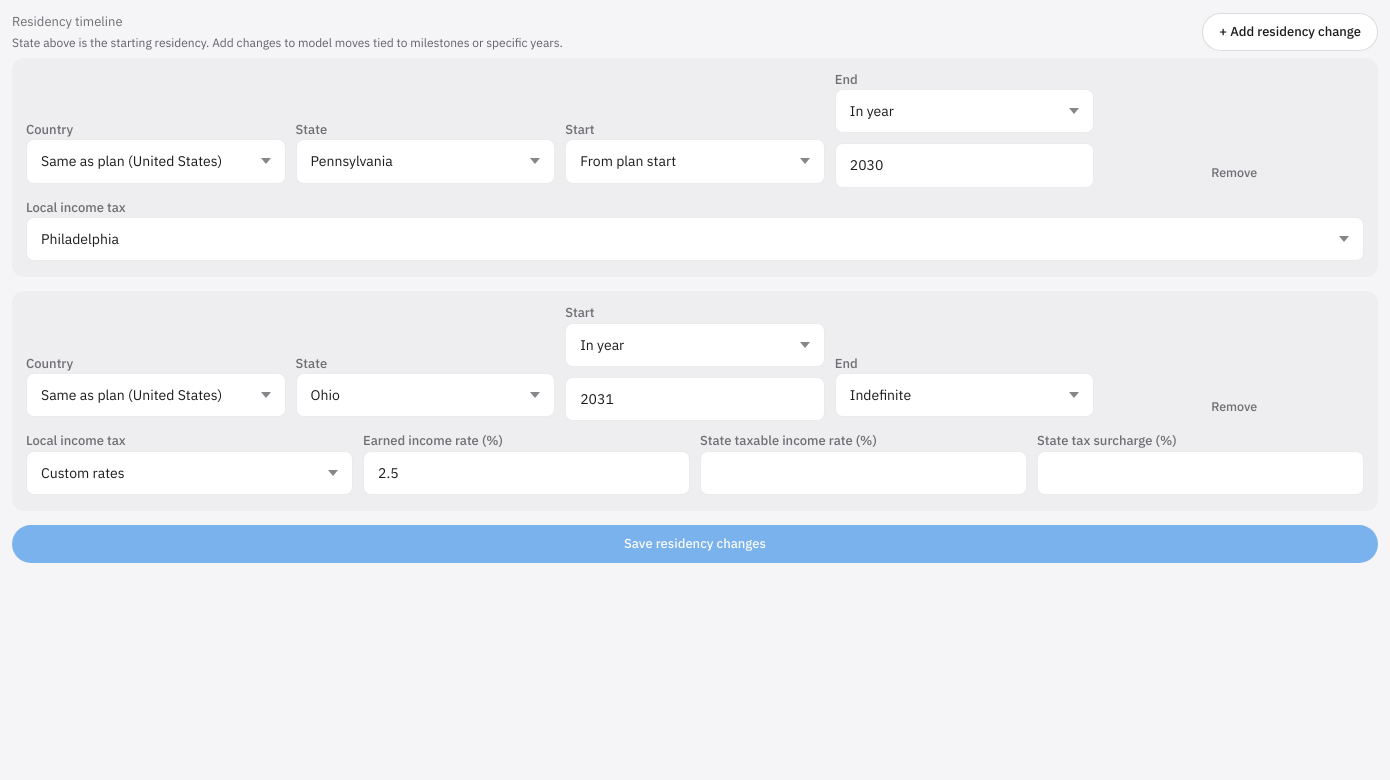
Test: residency period localities › resends each saved locality when another field changes
The image size is (1390, 780).
Expected: the 1st dropdown labelled "Local income tax" shows "Philadelphia", [26,217,1364,261]
Replace the text in the 1st number field with "2031": [965, 165] box [835,143,1094,188]
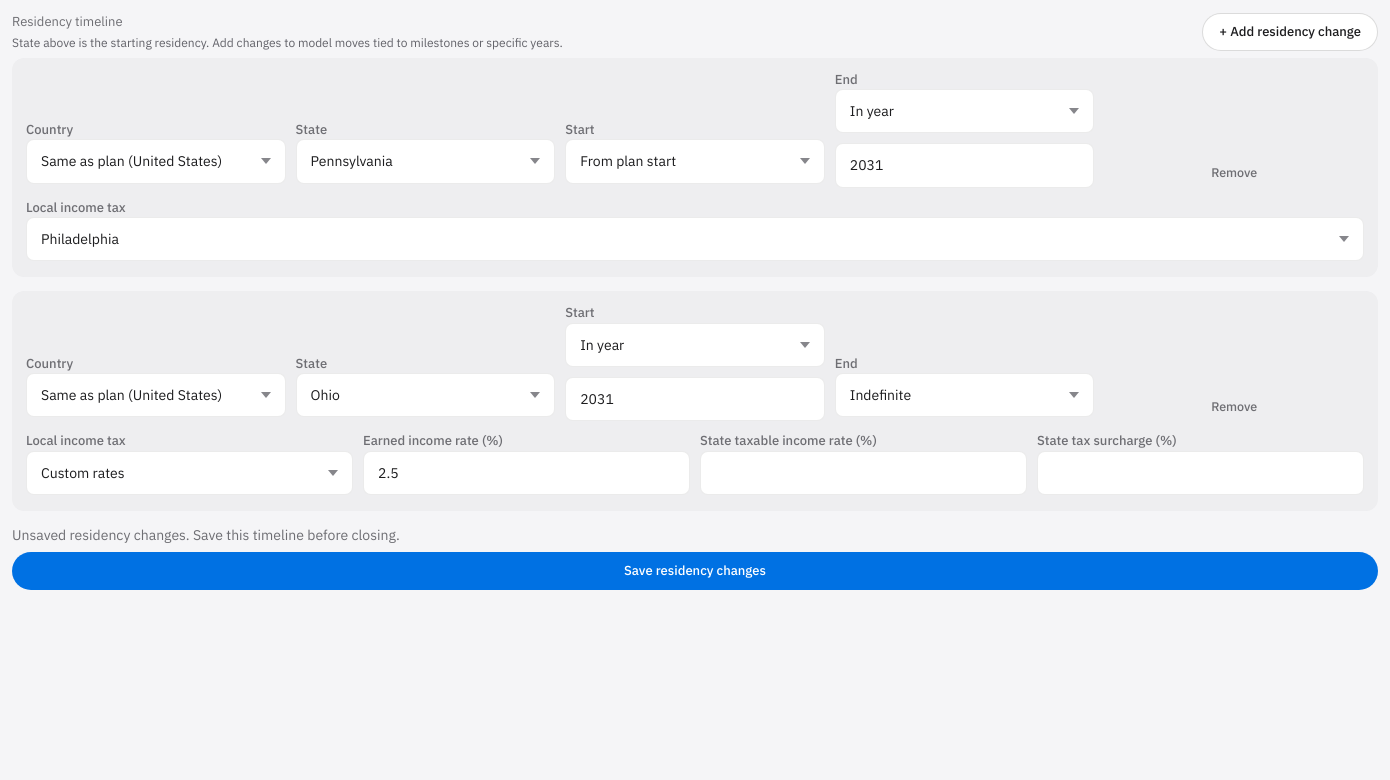
Click the button "Save residency changes": [695, 571] box [12,552,1378,590]
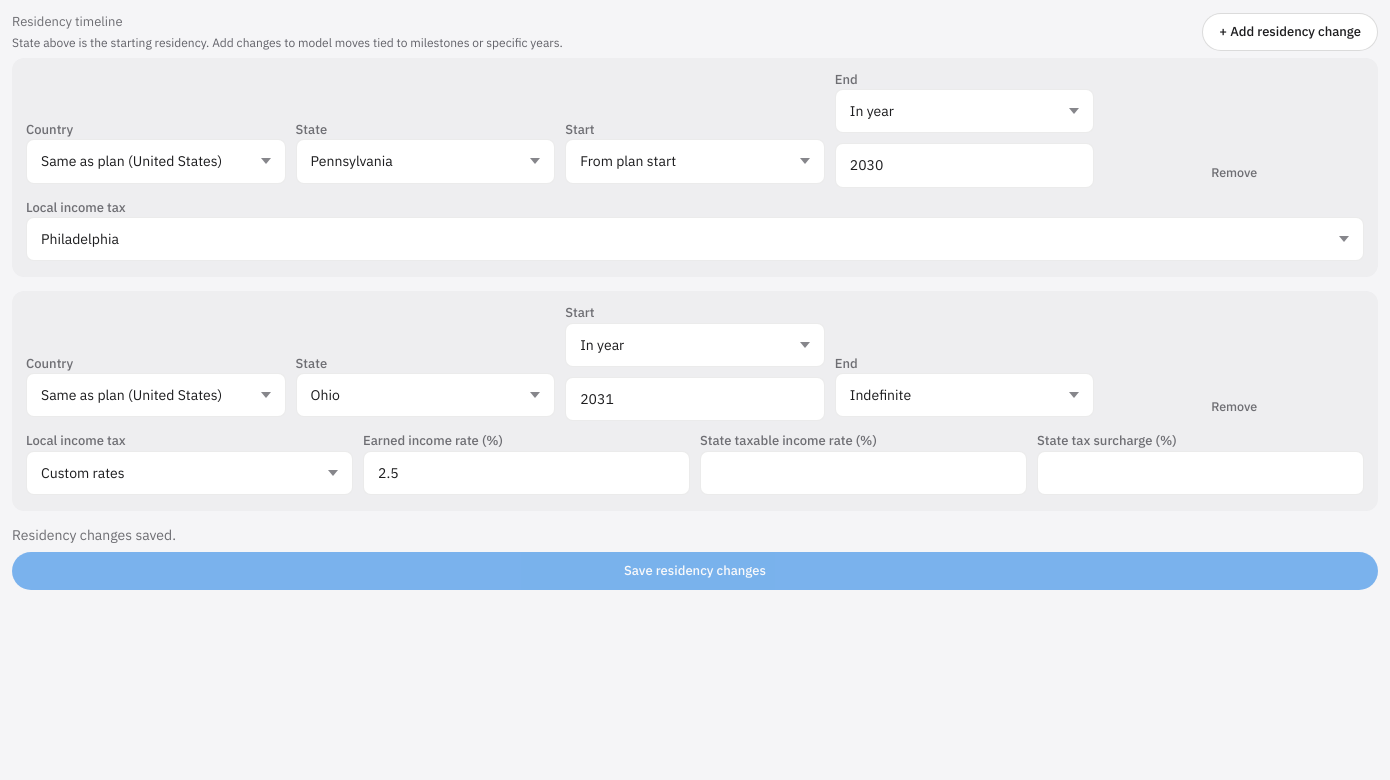
Expected: the text "Residency changes saved." is shown, [12,526,176,544]
